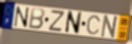B: (28, 6, 46, 30)
C: (86, 15, 102, 36)
N: (100, 14, 120, 40), (64, 10, 83, 36), (13, 6, 30, 29)
Z: (48, 10, 67, 33)
